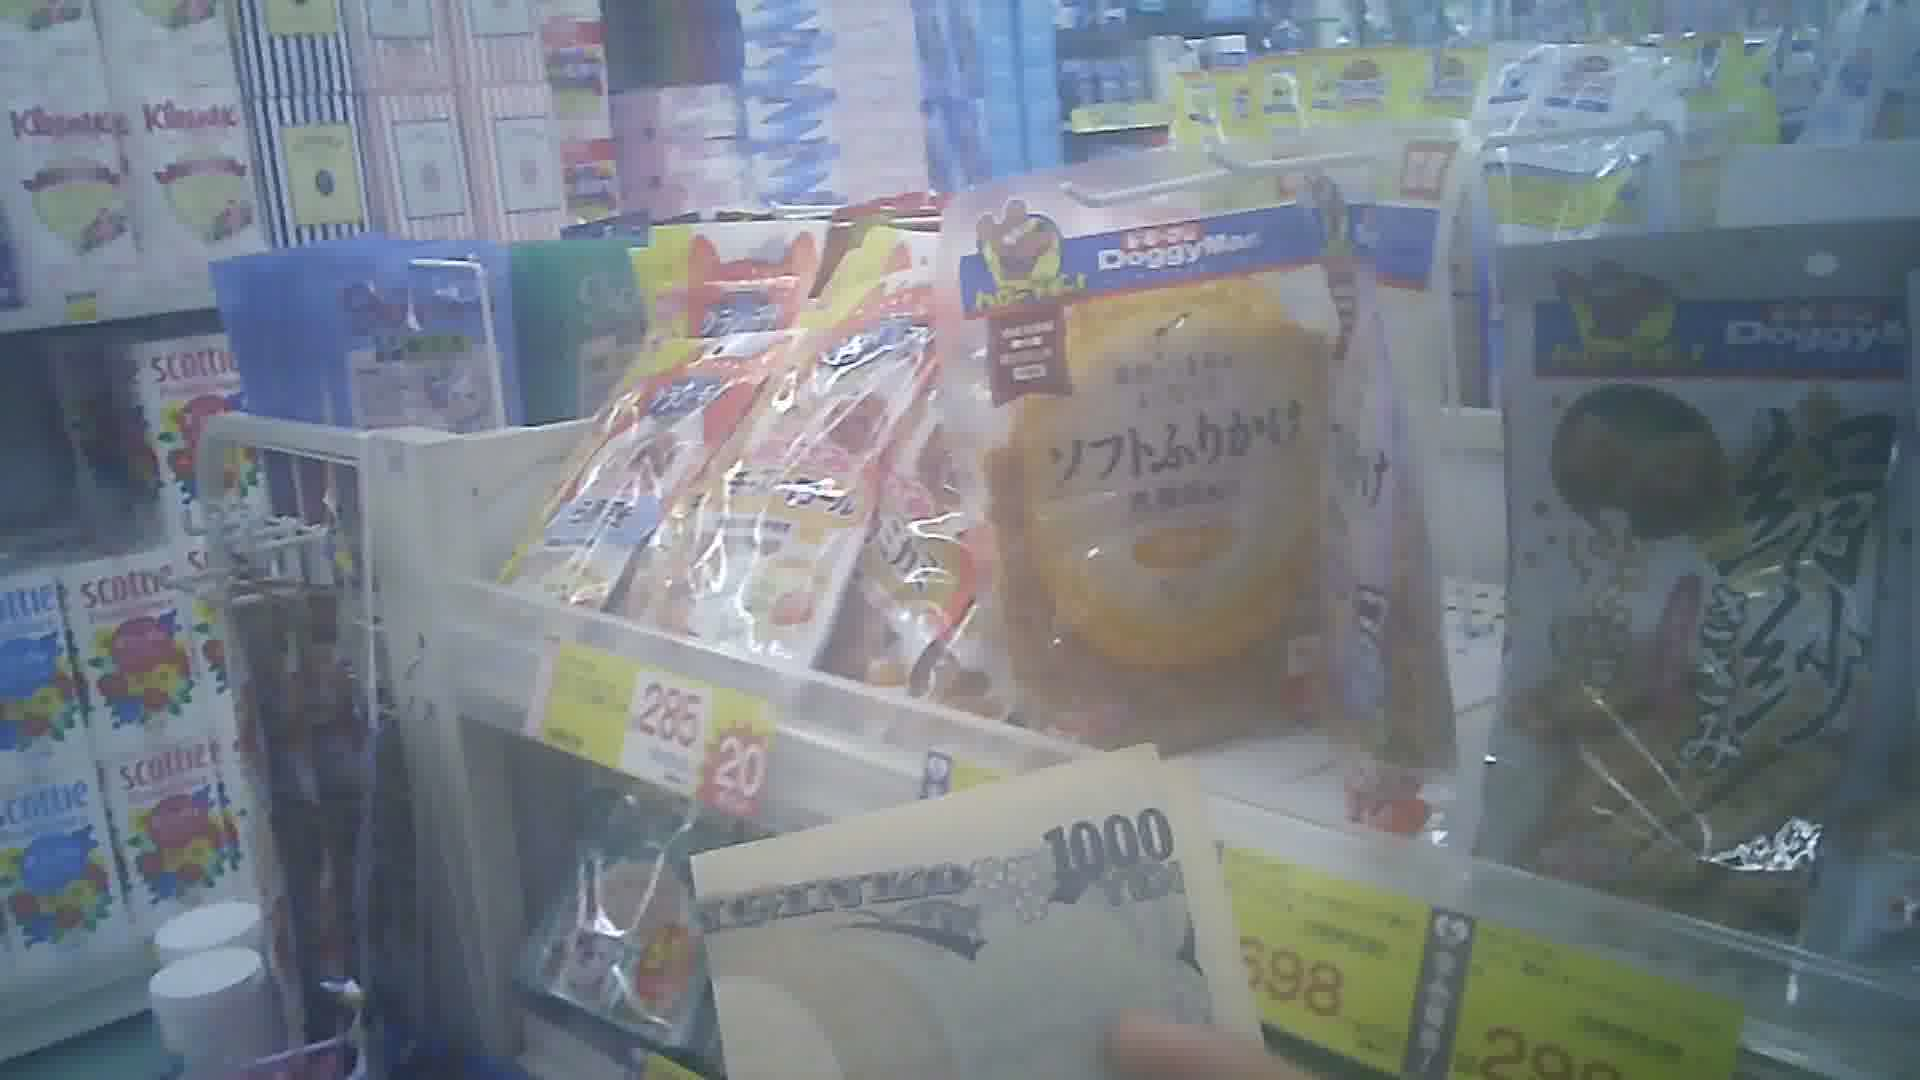1,000 Yen: (692, 746, 1275, 1079)
